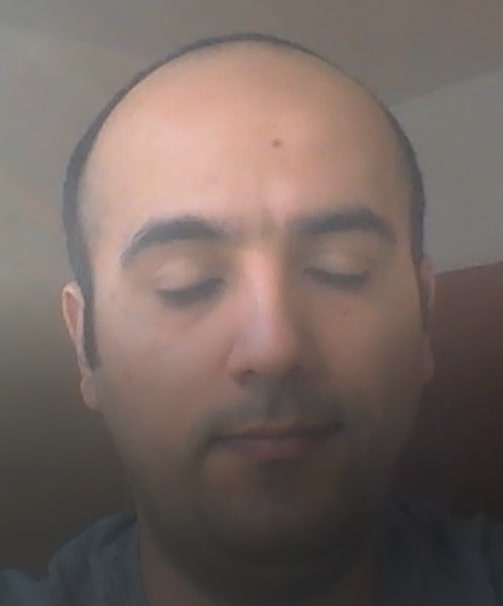Sleeping: (122, 206, 393, 325)
